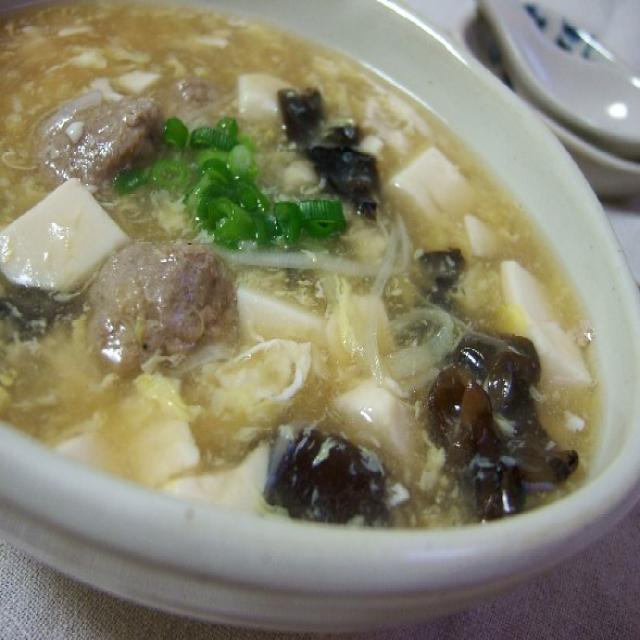汤锅炖物: (3, 0, 639, 602)
